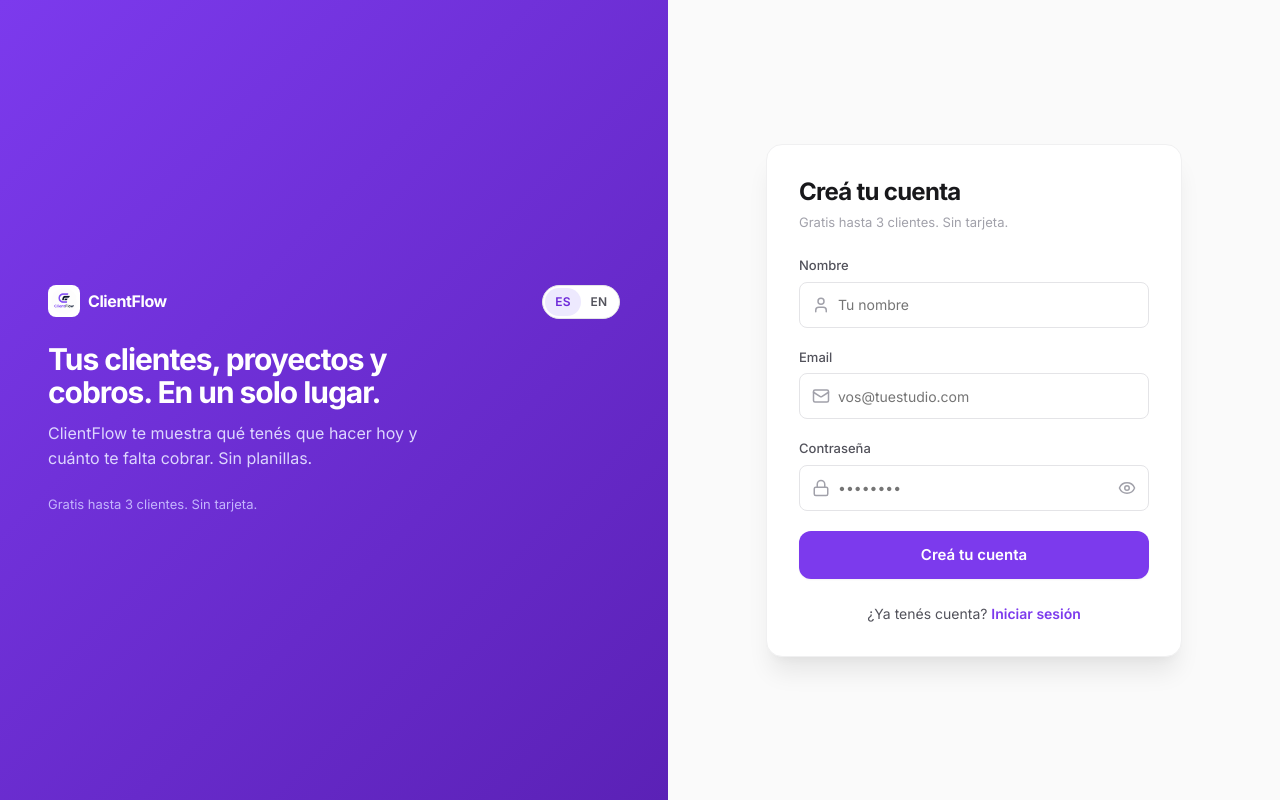
Test: Register › submits name/email/password and, on success, replaces the form with a 'check your inbox' notice naming the address
Step 1. Type "Tita" into the field labelled "Nombre" → point(987, 304), box [838,282,1136,326]
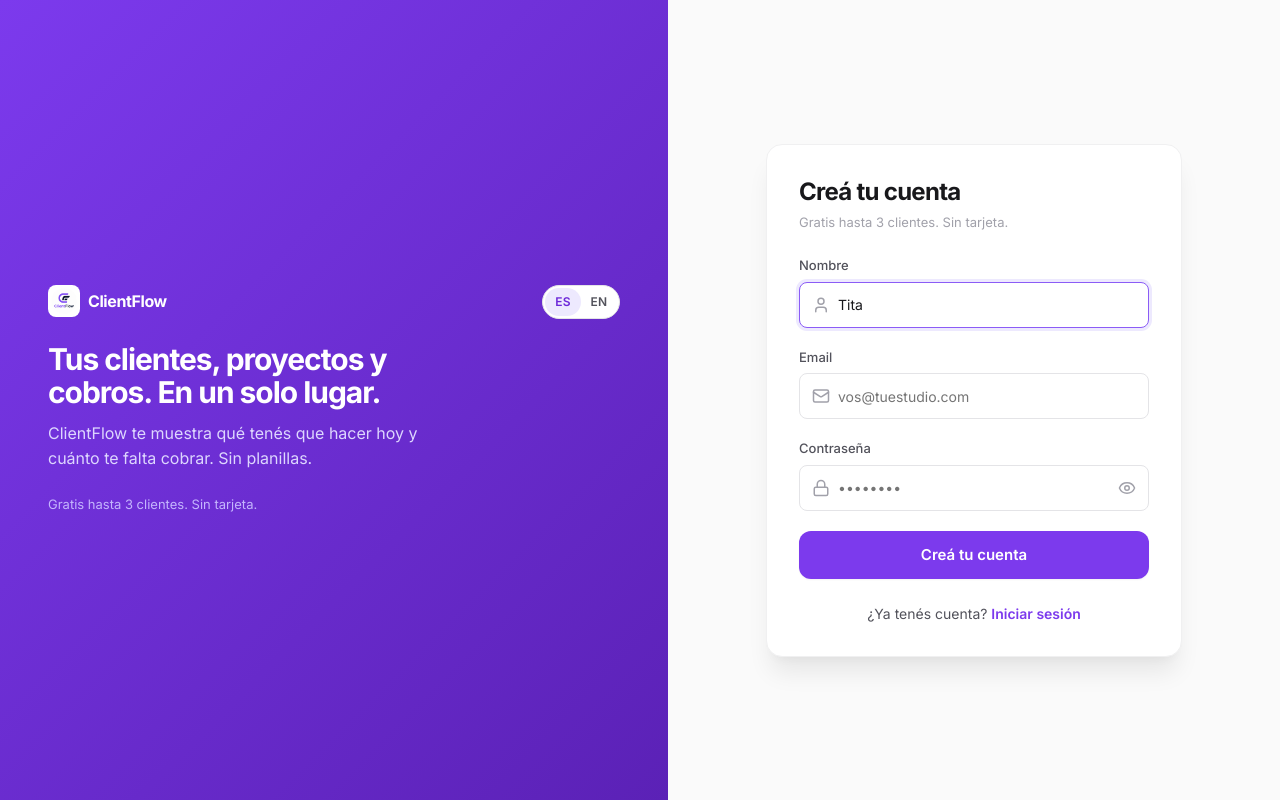
Step 2. Type "tita@estudio.com" into the field labelled "Email" → point(987, 396), box [838,374,1136,418]
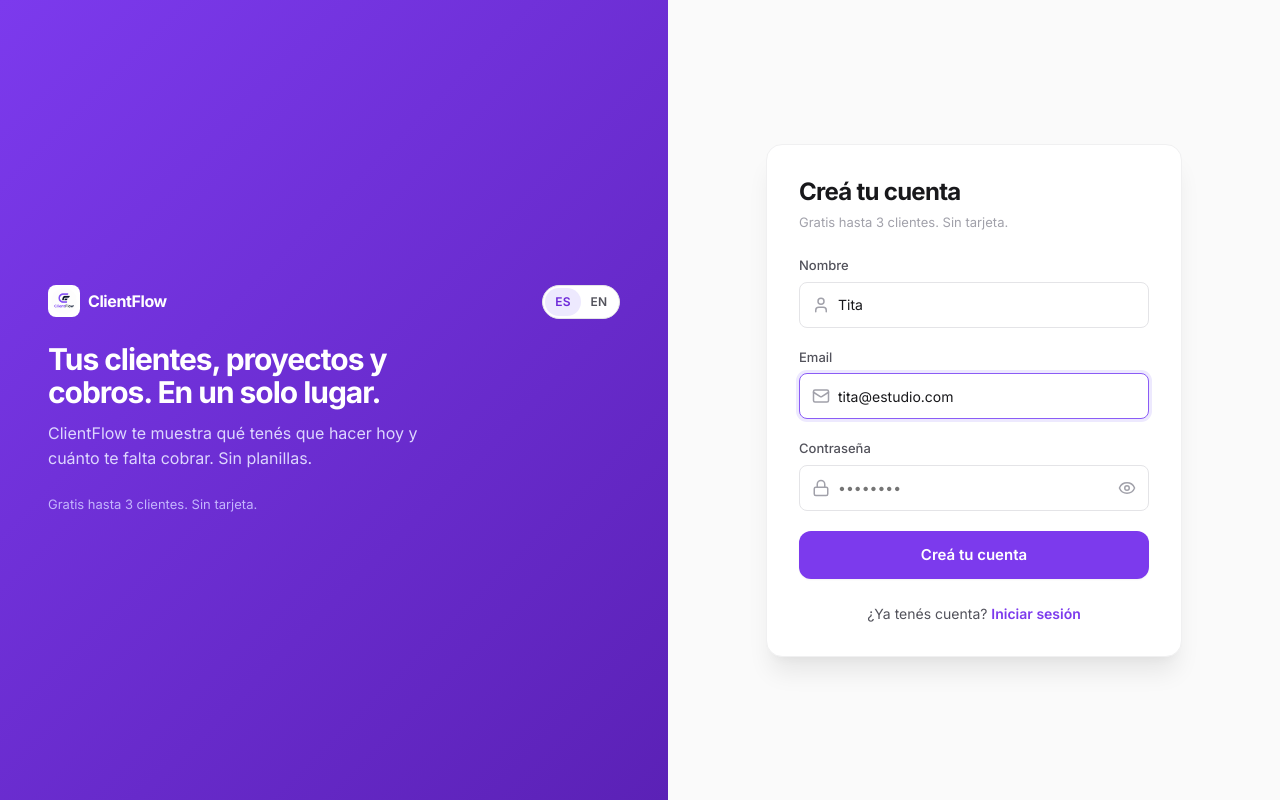
Step 3. Type "supersecreta" into the password field labelled "Contraseña" → point(974, 488), box [838,466,1110,510]
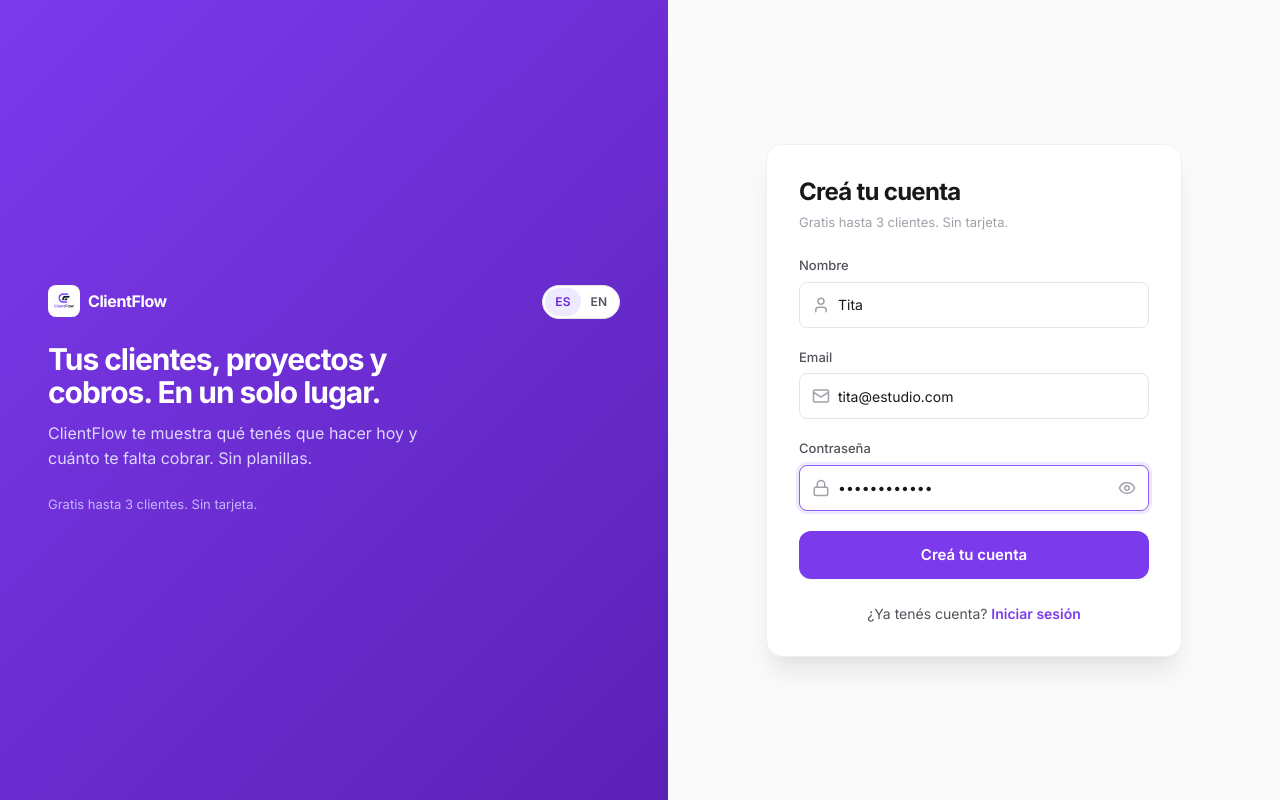
Step 4. Click the button "Creá tu cuenta" → point(974, 554), box [799,530,1149,578]
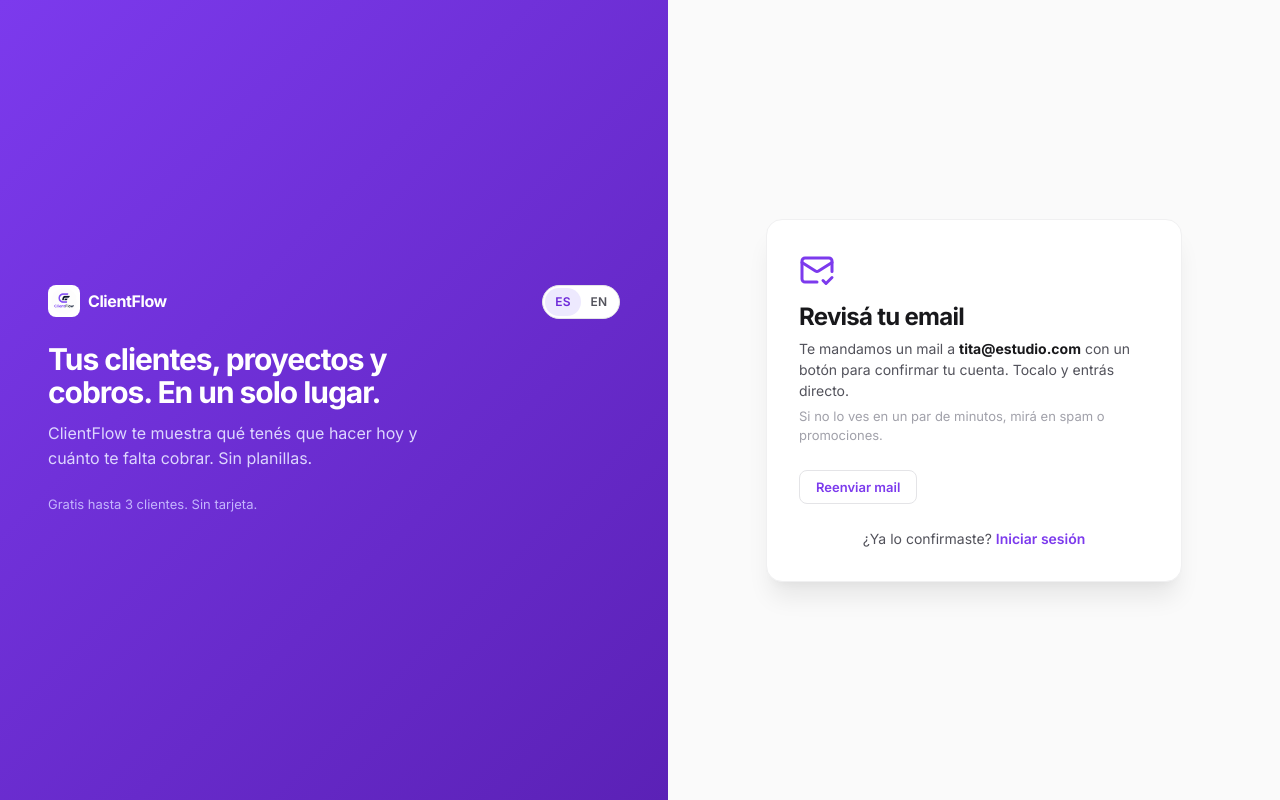
Expected: the heading "Revisá tu email" is shown, [799,302,964,330]
Expected: the text "tita@estudio.com" is shown, [959,340,1081,356]
Expected: the label labelled "Contraseña" is gone
